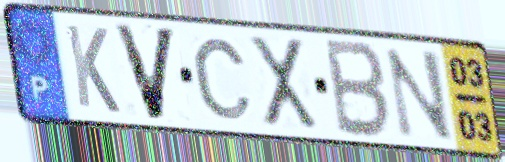B: (323, 35, 393, 142)
C: (190, 35, 256, 122)
K: (62, 21, 123, 117)
N: (382, 46, 457, 144)
V: (110, 21, 181, 123)
X: (245, 33, 321, 132)
